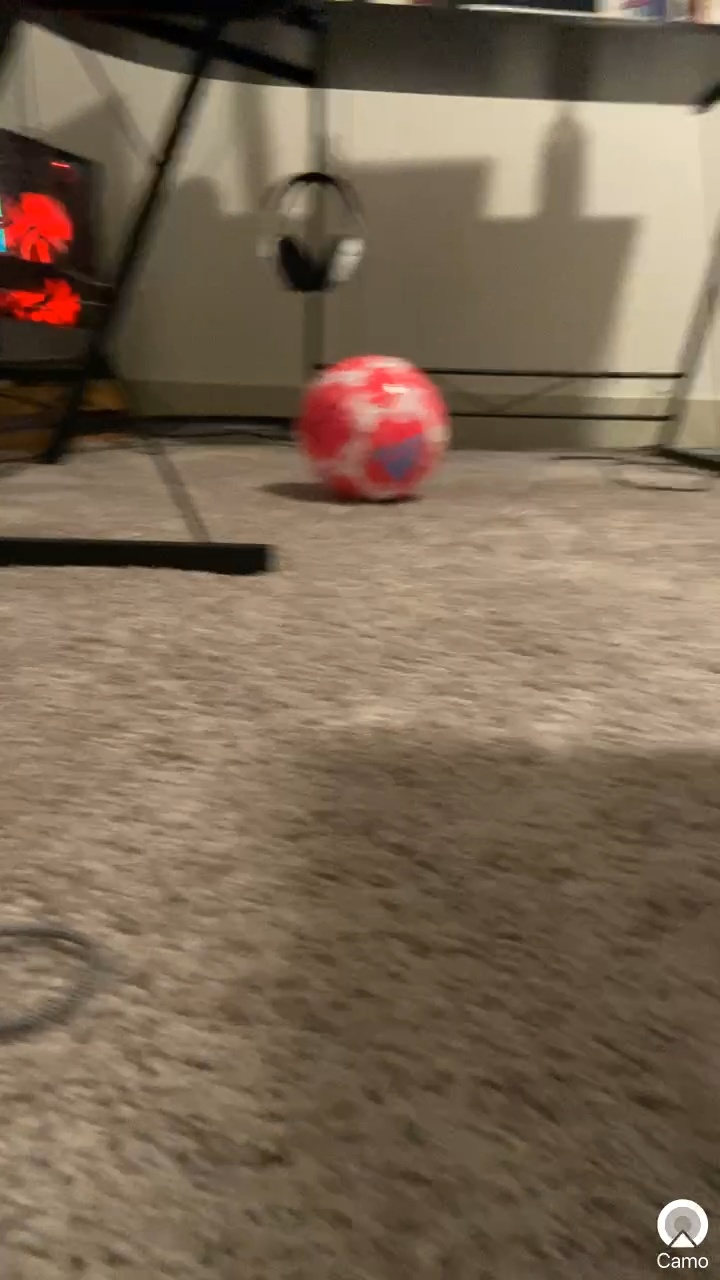Soccer_Ball: (267, 336, 482, 517)
